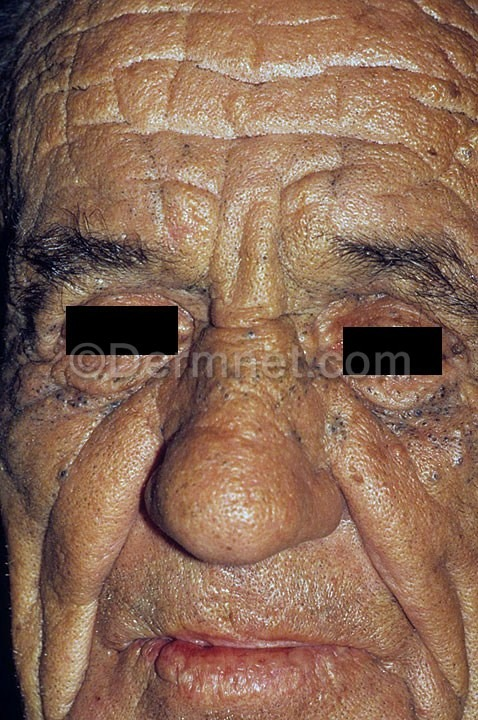Melasma: (43, 562, 408, 720), (84, 103, 363, 222), (315, 380, 478, 516), (16, 373, 173, 438)
